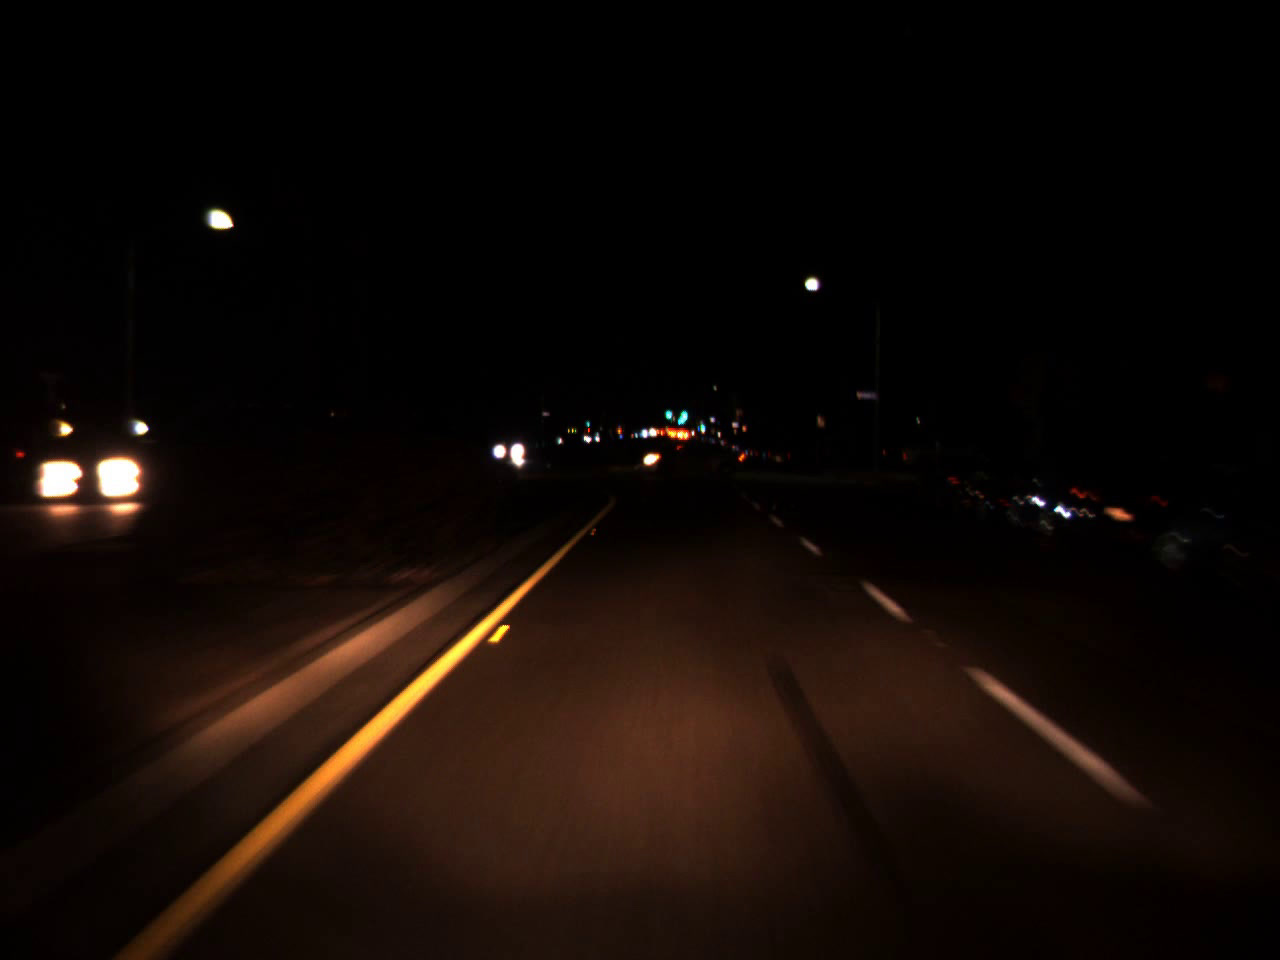go: (676, 400, 688, 421), (663, 404, 672, 419), (698, 417, 705, 432)
